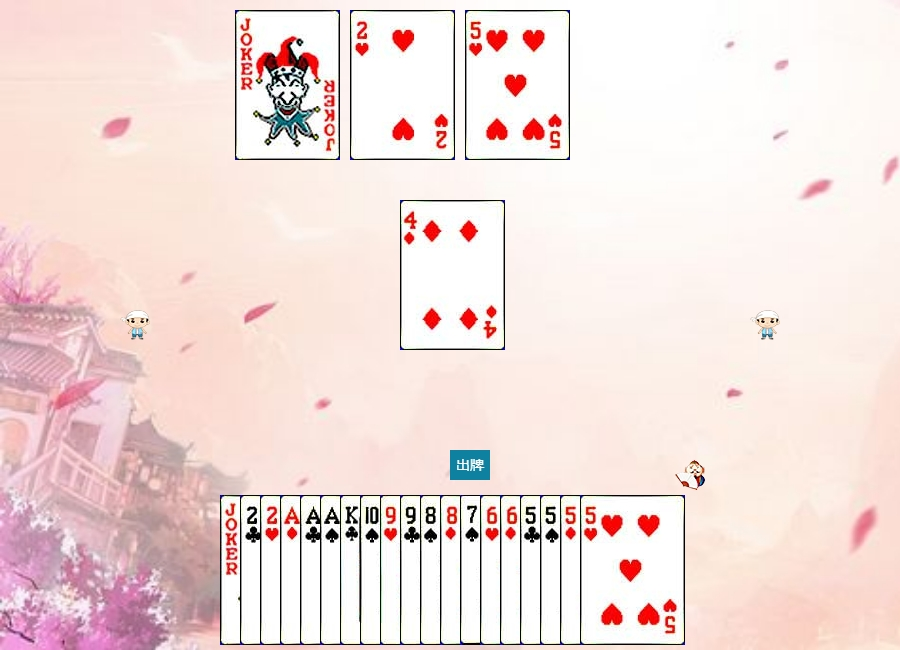10~4: (360, 495, 465, 645)
13~2: (340, 495, 445, 645)
14~1: (280, 495, 385, 645)
14~2: (300, 495, 405, 645)
14~4: (320, 495, 425, 645)
15~2: (240, 495, 345, 645)
15~3: (350, 10, 455, 160), (260, 495, 365, 645)
18~4: (235, 10, 340, 160), (220, 495, 325, 645)
4~1: (400, 200, 505, 350)
5~1: (560, 495, 665, 645)
5~2: (520, 495, 625, 645)
5~3: (465, 10, 570, 160), (580, 495, 685, 645)
5~4: (540, 495, 645, 645)
6~1: (500, 495, 605, 645)
6~3: (480, 495, 585, 645)
7~4: (460, 495, 565, 645)
8~1: (440, 495, 545, 645)
8~4: (420, 495, 525, 645)
9~2: (400, 495, 505, 645)
9~3: (380, 495, 485, 645)
